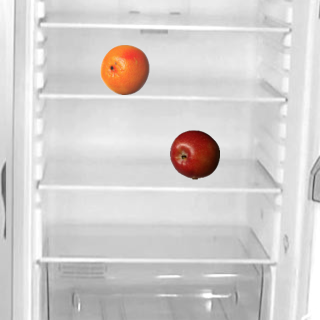Apple Braeburn: (169, 129, 219, 179)
Grapefruit Pink: (99, 44, 149, 94)
